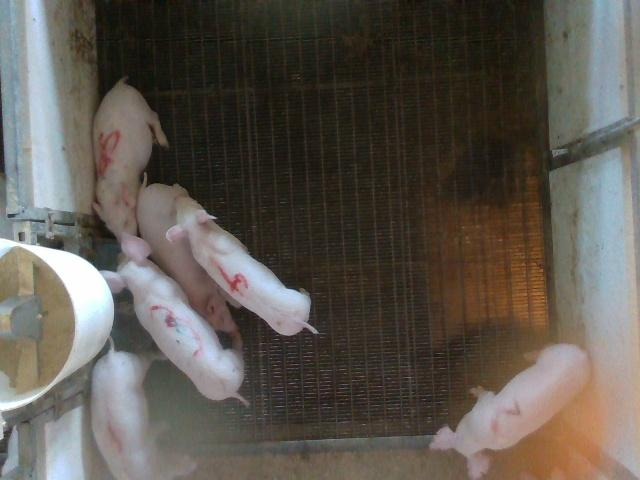pig-1: (92, 340, 150, 479)
pig-2: (430, 344, 590, 478)
pig-3: (102, 235, 244, 399)
pig-4: (166, 196, 318, 334)
pig-5: (92, 78, 169, 241)
